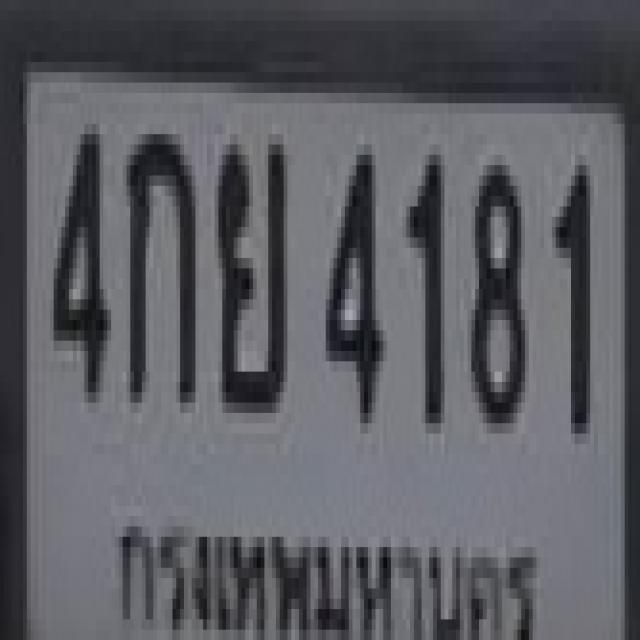-: (214, 134, 284, 403), (122, 124, 192, 392)
1: (402, 150, 441, 418), (552, 155, 586, 423)
4: (322, 134, 379, 413), (50, 114, 103, 392)
8: (468, 155, 521, 413)
BKK: (113, 504, 542, 640)
